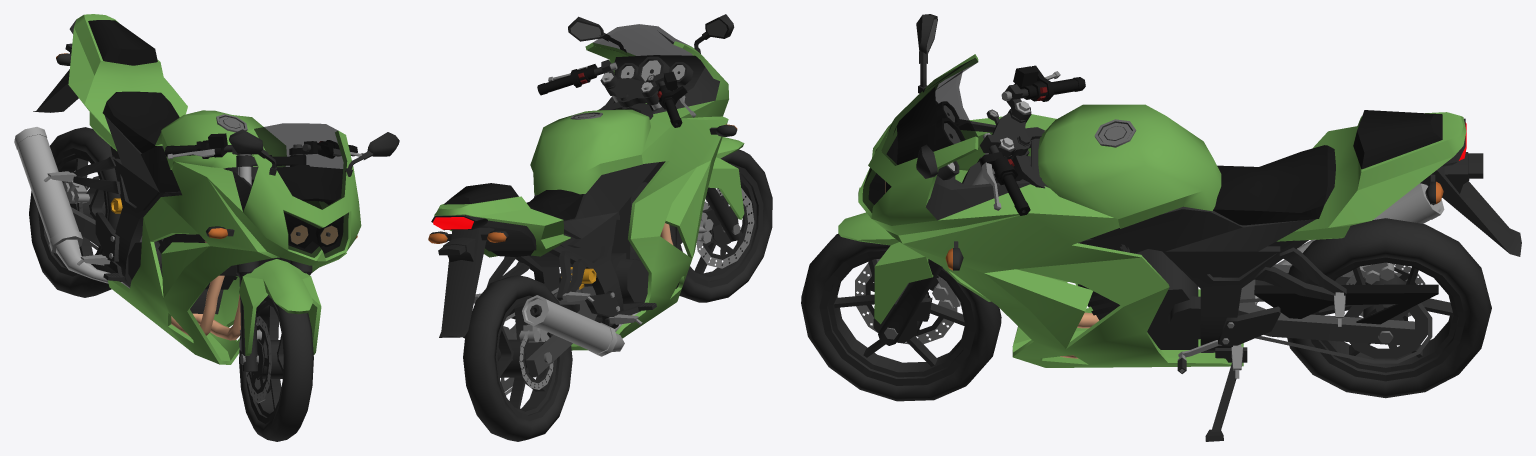
File: kawasaki.glb
The picture shows the model from 3 angles, left to right: view 1: azimuth 30°, elevation 25°; view 2: azimuth 150°, elevation 25°; view 3: azimuth 270°, elevation 25°; orthographic projection. The views are drawn at different scales.
Visible parts, largest first — view 1: bem2_ninja250r_0, bem2_ninja250r_w_f_7, bem2_ninja250r_str_6, bem2_ninja250r_w_r_3, bem2_ninja250r_swingarm_2, bem2_ninja250r_hl_1; view 2: bem2_ninja250r_0, bem2_ninja250r_w_r_3, bem2_ninja250r_w_f_7, bem2_ninja250r_str_6, bem2_ninja250r_swingarm_2, bem2_ninja250r_hl_1; view 3: bem2_ninja250r_0, bem2_ninja250r_w_r_3, bem2_ninja250r_w_f_7, bem2_ninja250r_str_6, bem2_ninja250r_swingarm_2, bem2_ninja250r_kickstand_4.
Part boxes in pixels (<box>): bem2_ninja250r_0: <box>14,14,399,364</box>; bem2_ninja250r_w_f_7: <box>239,295,313,441</box>; bem2_ninja250r_str_6: <box>165,133,363,371</box>; bem2_ninja250r_w_r_3: <box>29,127,120,297</box>; bem2_ninja250r_swingarm_2: <box>63,176,142,249</box>; bem2_ninja250r_hl_1: <box>291,225,337,244</box>; bem2_ninja250r_0: <box>428,14,737,356</box>; bem2_ninja250r_w_r_3: <box>463,275,572,441</box>; bem2_ninja250r_w_f_7: <box>669,149,772,302</box>; bem2_ninja250r_str_6: <box>537,59,744,243</box>; bem2_ninja250r_swingarm_2: <box>463,286,597,395</box>; bem2_ninja250r_hl_1: <box>433,217,473,229</box>; bem2_ninja250r_0: <box>858,14,1521,378</box>; bem2_ninja250r_w_r_3: <box>1287,218,1491,398</box>; bem2_ninja250r_w_f_7: <box>801,233,1001,401</box>; bem2_ninja250r_str_6: <box>838,65,1085,345</box>; bem2_ninja250r_swingarm_2: <box>1237,262,1438,363</box>; bem2_ninja250r_kickstand_4: <box>1205,351,1244,441</box>.
Size of the model in its own units: 0.8133 by 1.17 by 2.05.
6 materials, 2 textured.
